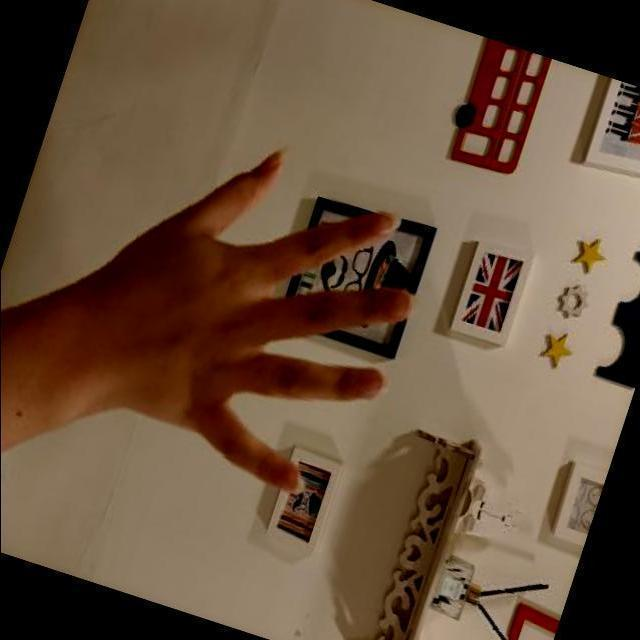hand: (46, 88, 466, 544)
